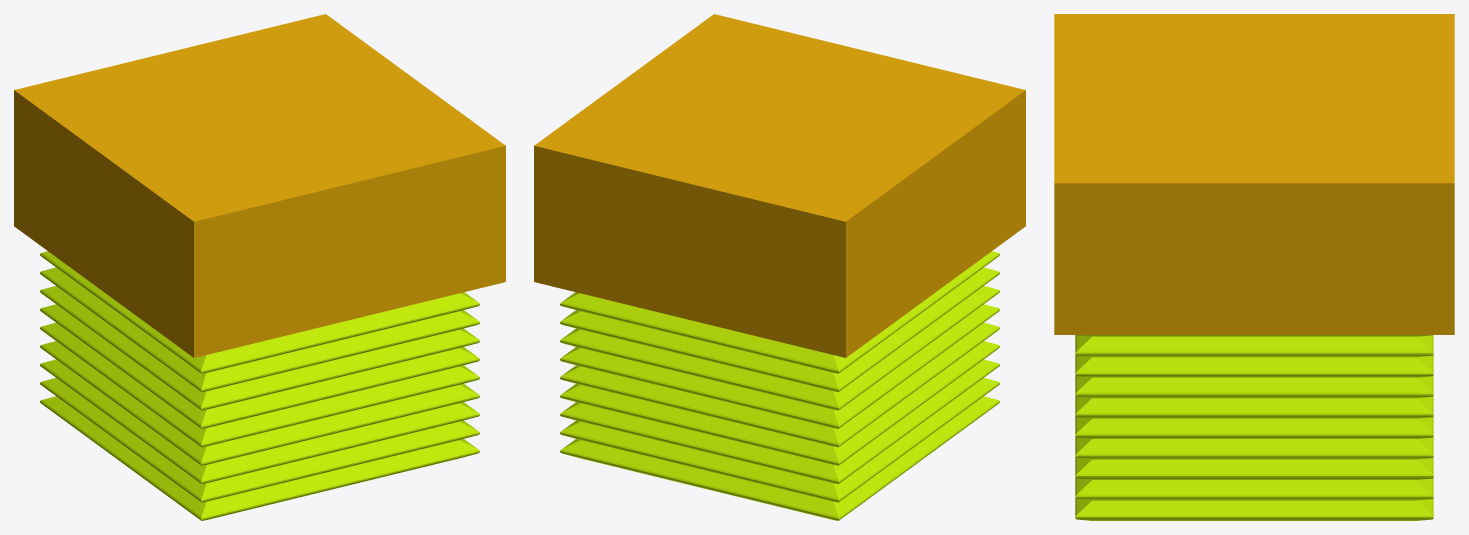
File: Elevator_Inbetween.fbx
3 views of the same model, side by side, from view 1: azimuth 30°, elevation 25°; view 2: azimuth 150°, elevation 25°; view 3: azimuth 270°, elevation 25° (orthographic). The views are drawn at different scales.
Visible parts, largest first — view 1: Elevator_Inbetween; view 2: Elevator_Inbetween; view 3: Elevator_Inbetween.
Boxes of the visible parts, x1,y1,x2,y2 form: Elevator_Inbetween: [14, 14, 505, 520]; Elevator_Inbetween: [534, 14, 1025, 520]; Elevator_Inbetween: [1054, 14, 1454, 520].
Bounding box in the file's own units: 168 × 168 × 164.
